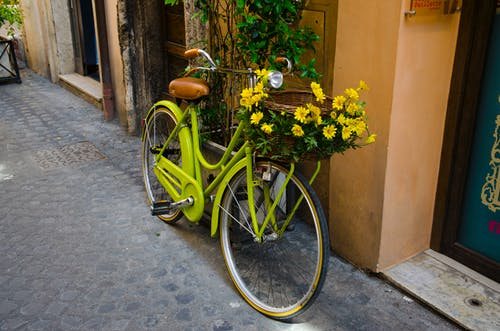bicycle: (137, 45, 339, 325)
